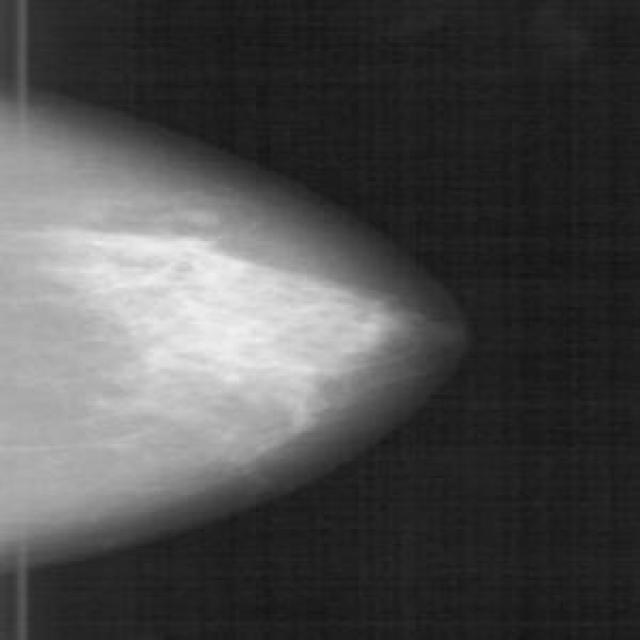tumor: (132, 224, 390, 437)
